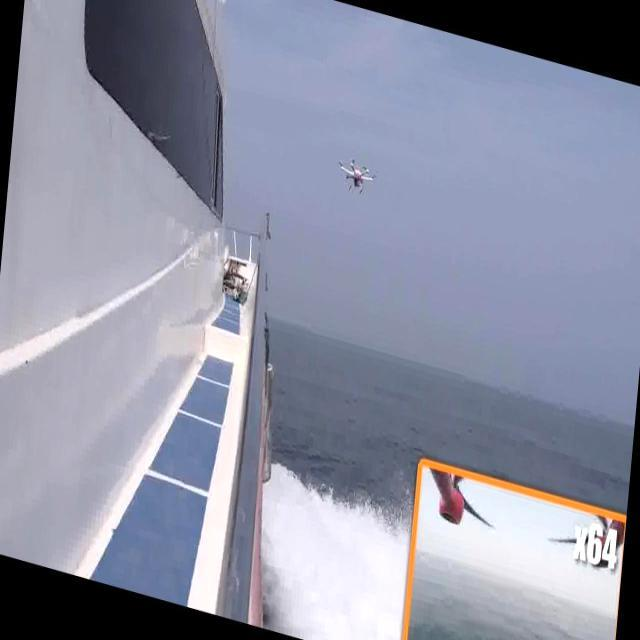drone: (332, 142, 382, 206)
